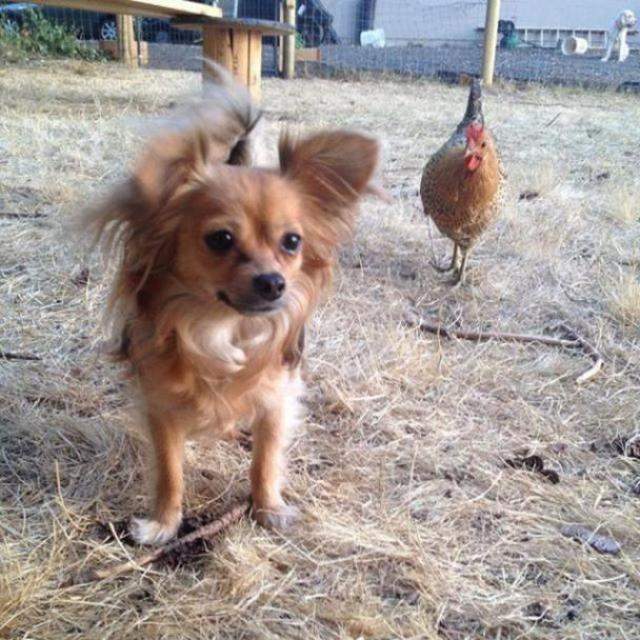Chicken: (411, 104, 510, 290)
